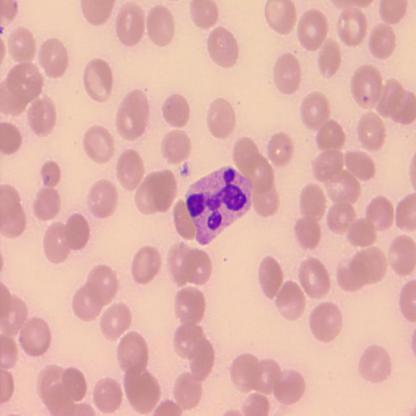Segmented neutrophil: (183, 164, 254, 247)
